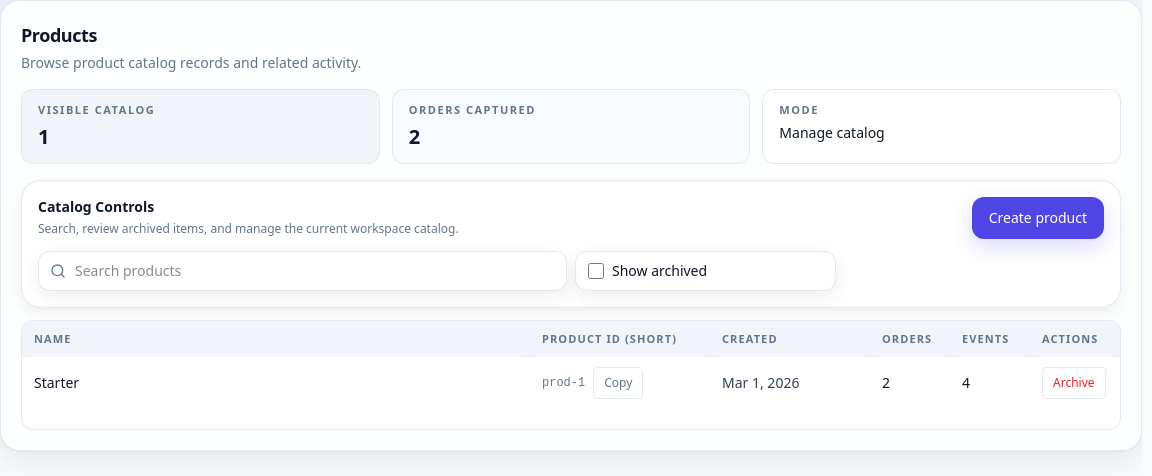
Test case: AdminProductsPage › renders products, applies search after debounce, and shows management actions for admins
Check: the button "Create product" is shown, box 972,196 -> 1104,238
Type "missing" into the field with placeholder "Search products" at (302, 270), box 38,250 -> 567,290
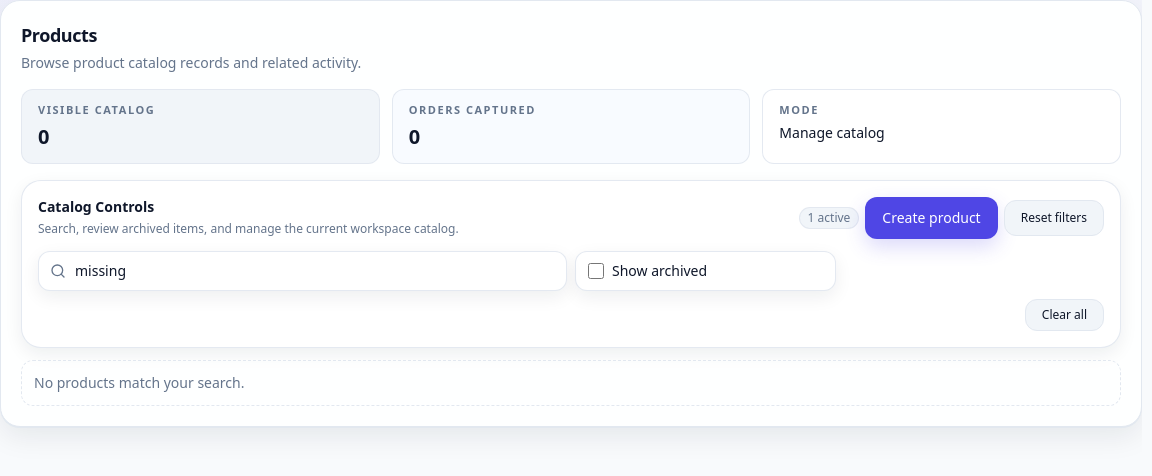
Check: the text "No products match your search." is shown, box 34,372 -> 244,392
